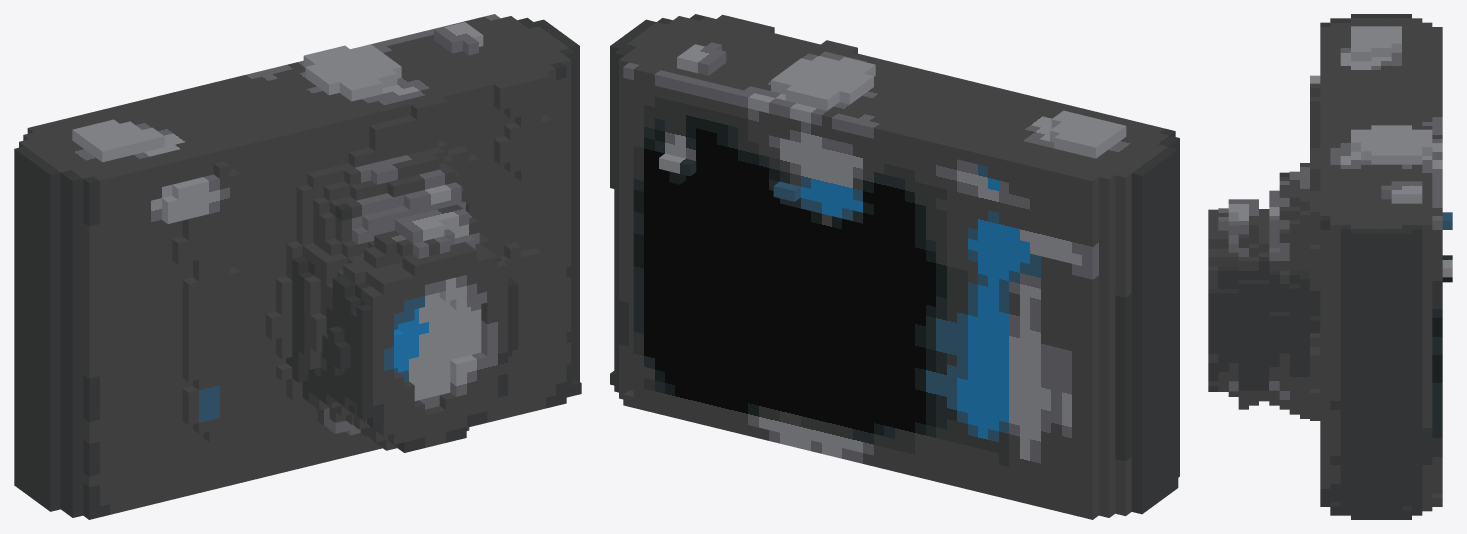
File: 照相机.gltf
3 views of the same model, side by side, from view 1: azimuth 30°, elevation 25°; view 2: azimuth 150°, elevation 25°; view 3: azimuth 270°, elevation 25° (orthographic). The views are drawn at different scales.
Parts seen in each view (by area): view 1: Object; view 2: Object; view 3: Object.
Part boxes in pixels (x1,y1,x2,y2): Object: (14,14,581,519); Object: (610,14,1179,519); Object: (1208,14,1452,519).
Size of the model in its own units: 51 by 32 by 24.
1 material, 1 textured.
